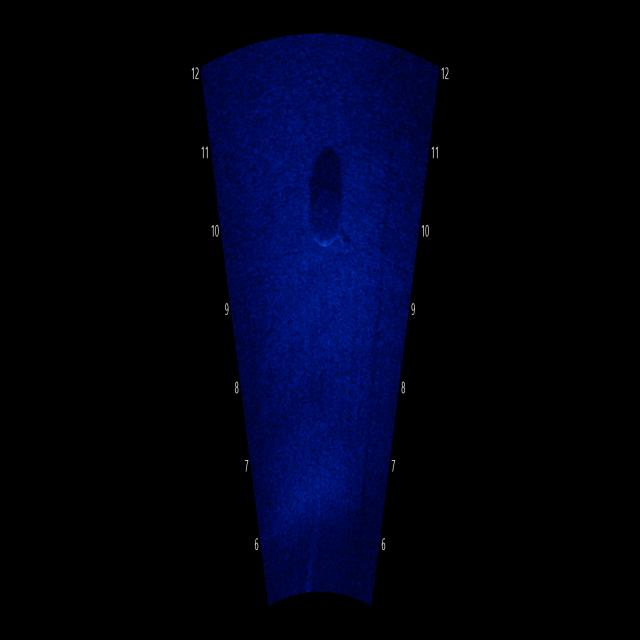circle: (300, 134, 355, 266)
